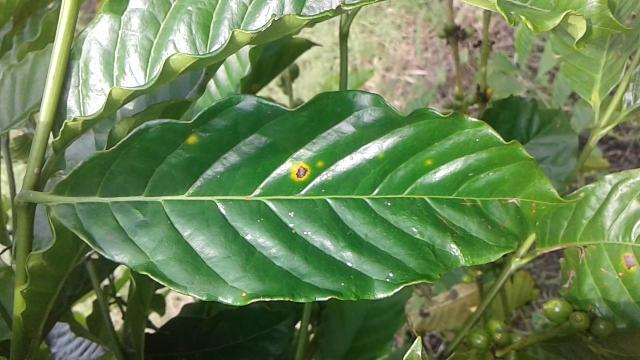rust_level_1: (48, 92, 579, 300)
